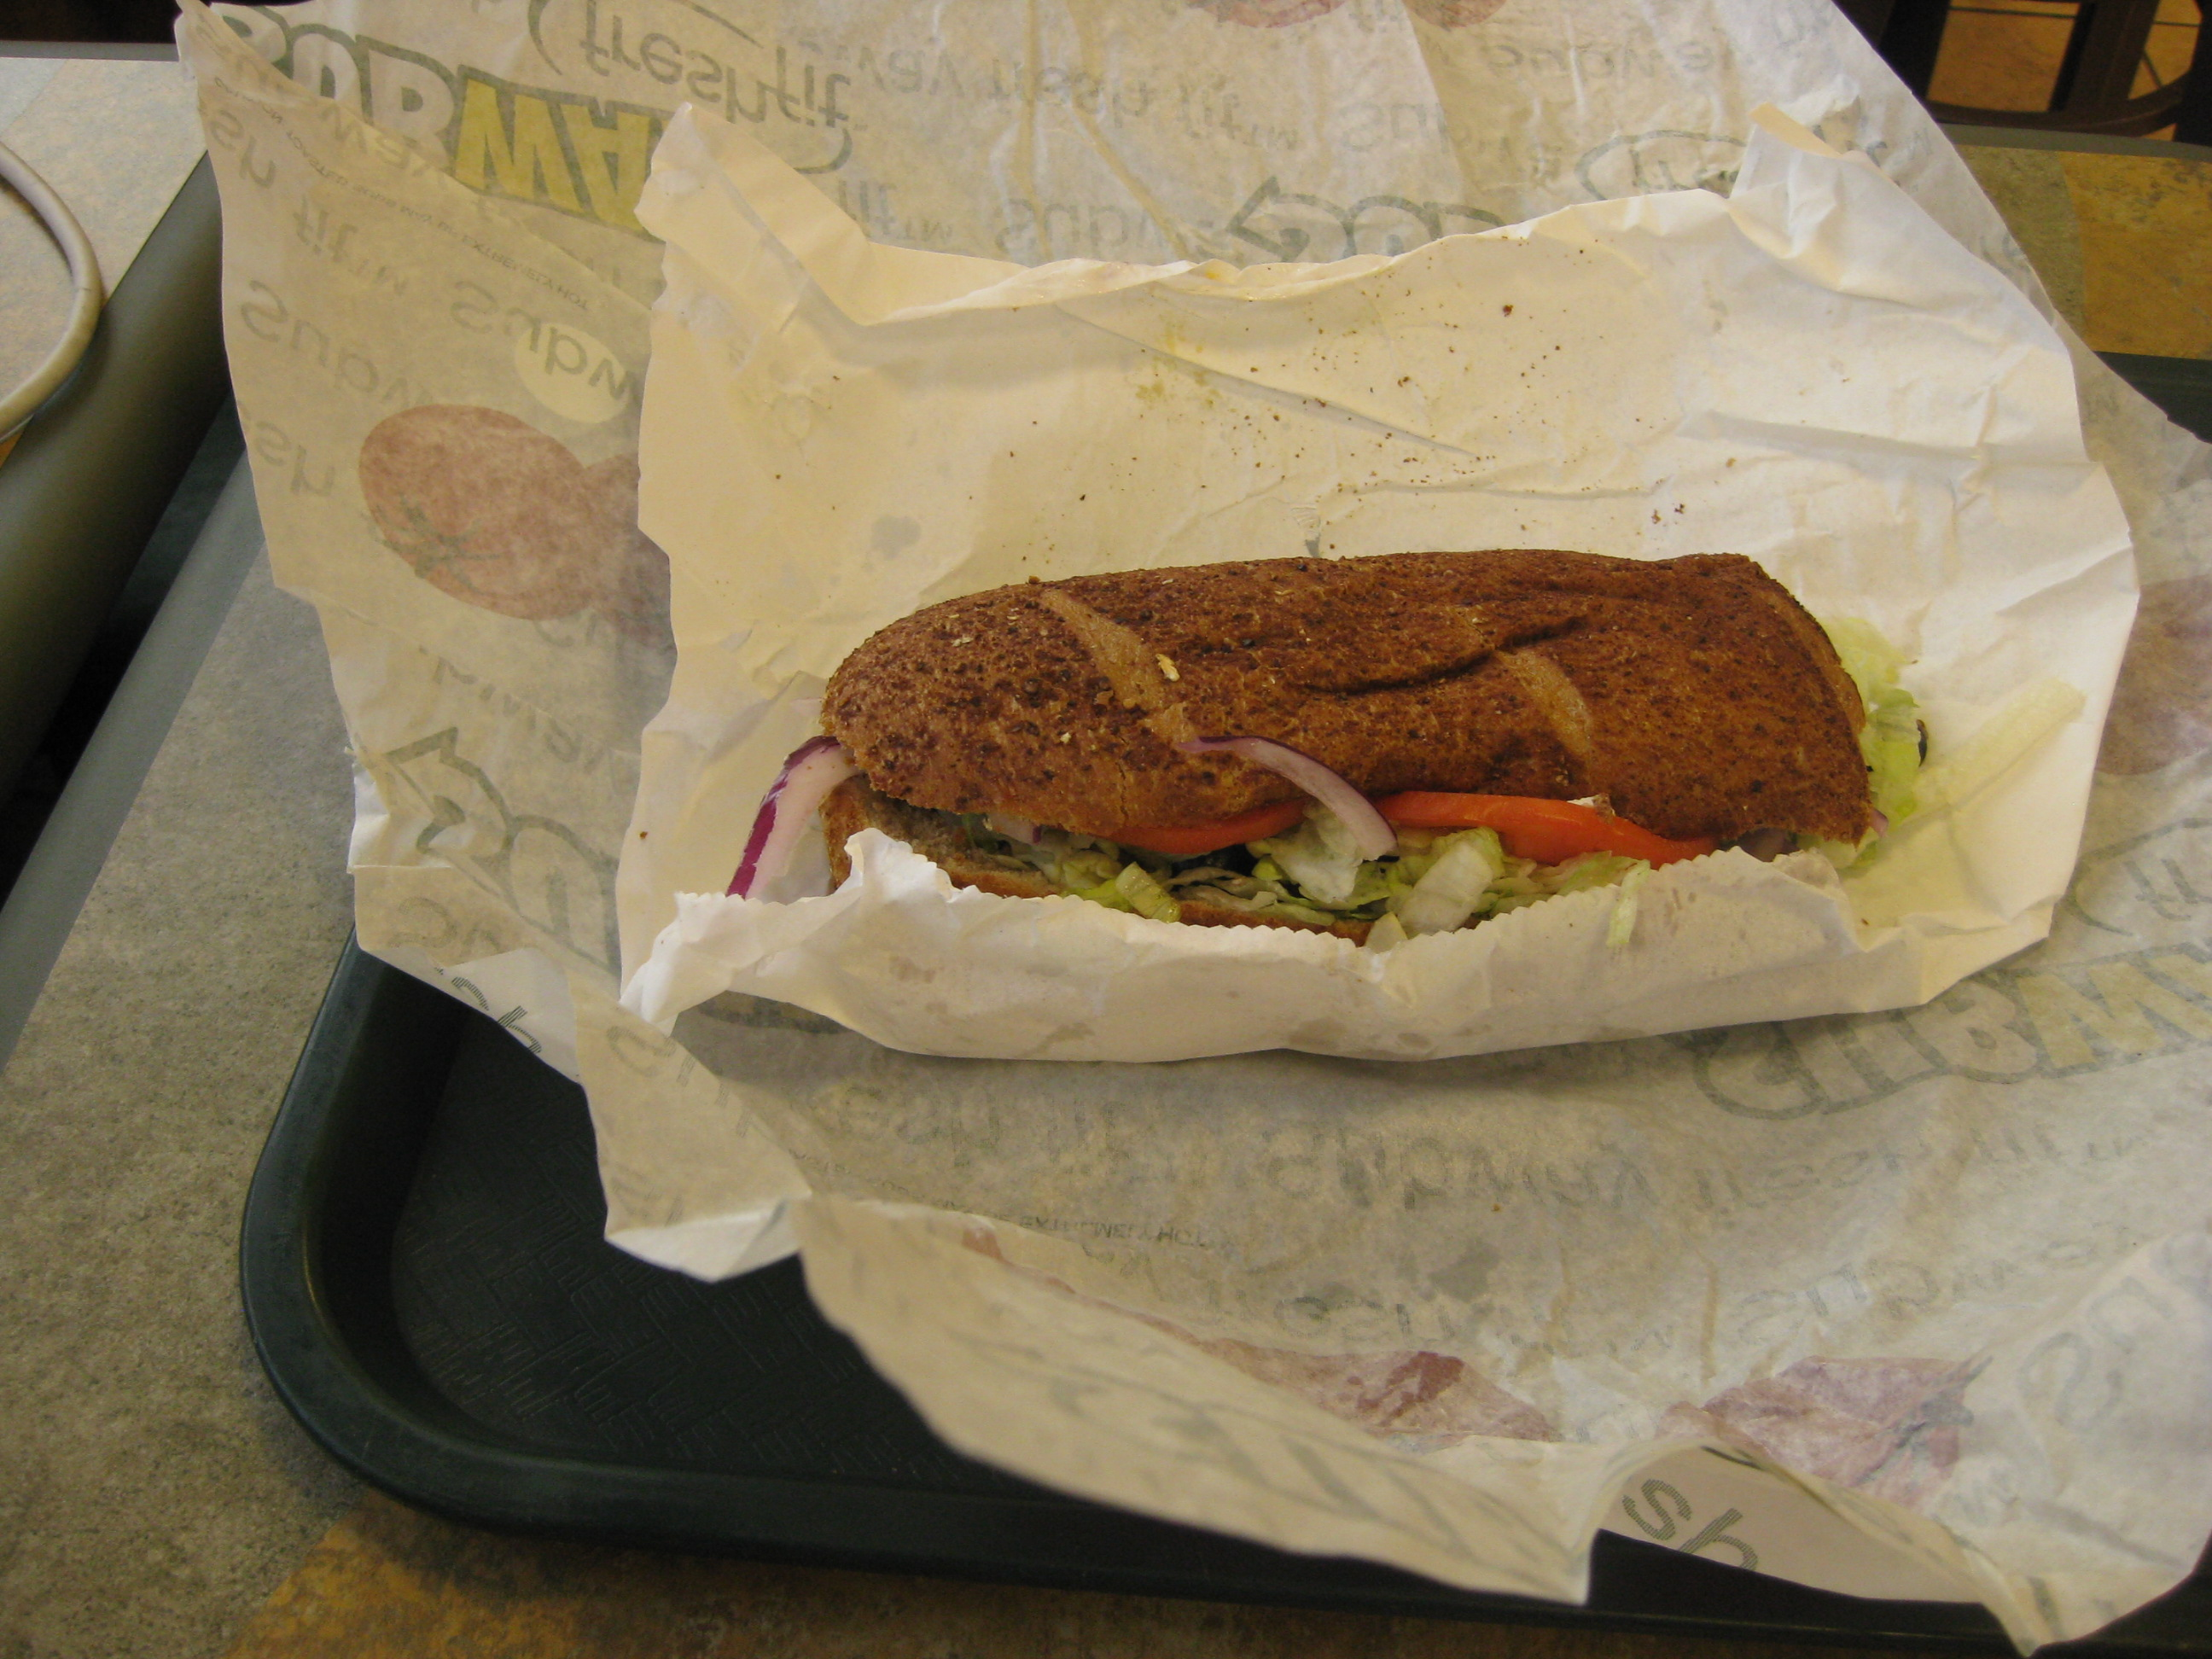sub: (772, 517, 1926, 968)
